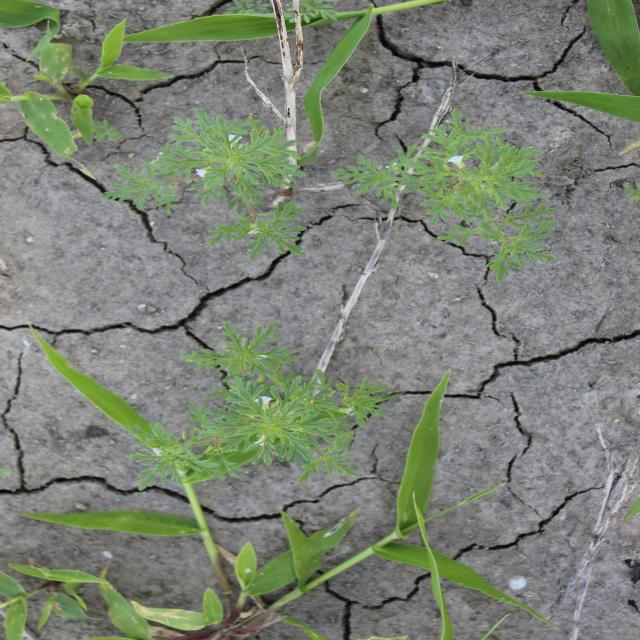Ragweed: (117, 319, 394, 493), (326, 107, 564, 285), (98, 105, 315, 263), (223, 1, 343, 26)
